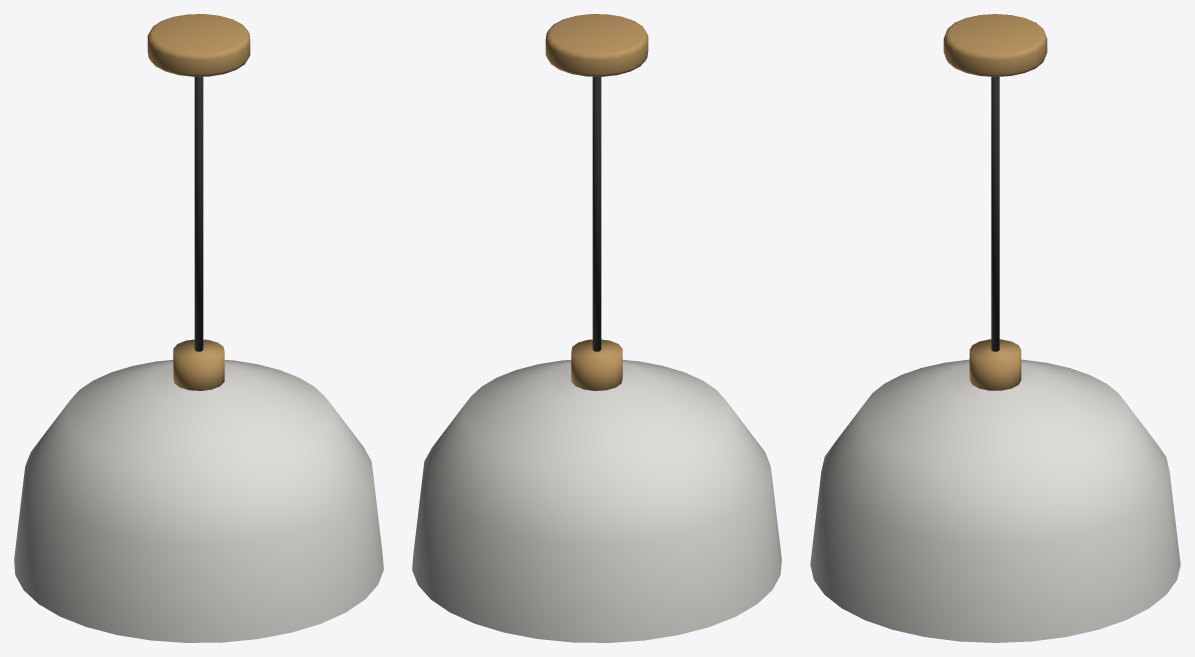
File: ceilingPendant.glb
The picture shows the model from 3 angles, left to right: view 1: azimuth 30°, elevation 25°; view 2: azimuth 150°, elevation 25°; view 3: azimuth 270°, elevation 25°; orthographic projection.
Parts seen in each view (by area): view 1: ceilingPendant; view 2: ceilingPendant; view 3: ceilingPendant.
Part boxes in pixels (left/top/right/bottom): ceilingPendant: left=14, top=14, right=383, bottom=642; ceilingPendant: left=412, top=14, right=781, bottom=642; ceilingPendant: left=810, top=14, right=1180, bottom=642.
Size of the model in its own units: 0.43 by 0.688 by 0.43.
